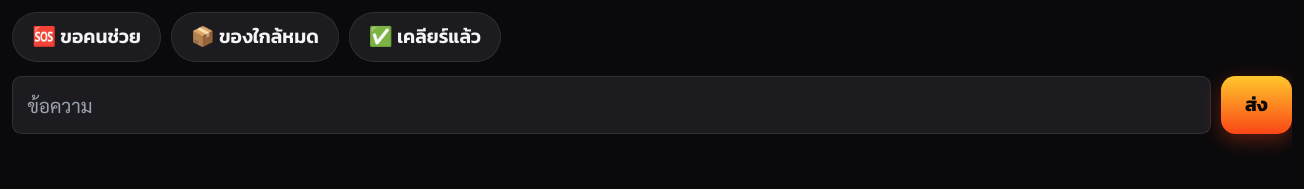
Scenario: shows an error if send is rejected
Click the button "📦 ของใกล้หมด". click: (255, 37)
box: [171, 12, 339, 62]
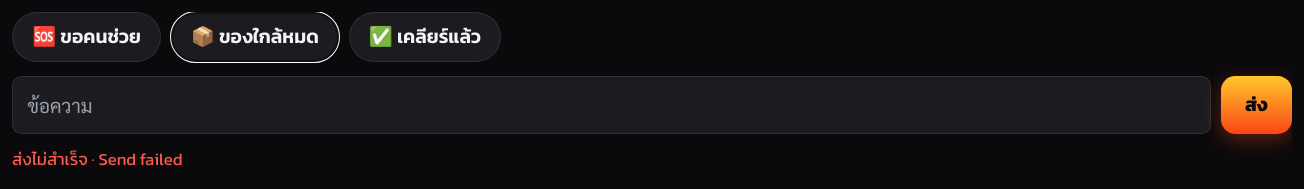
Expected: the message "ส่งไม่สำเร็จ · Send failed" is shown, [12, 147, 183, 172]
